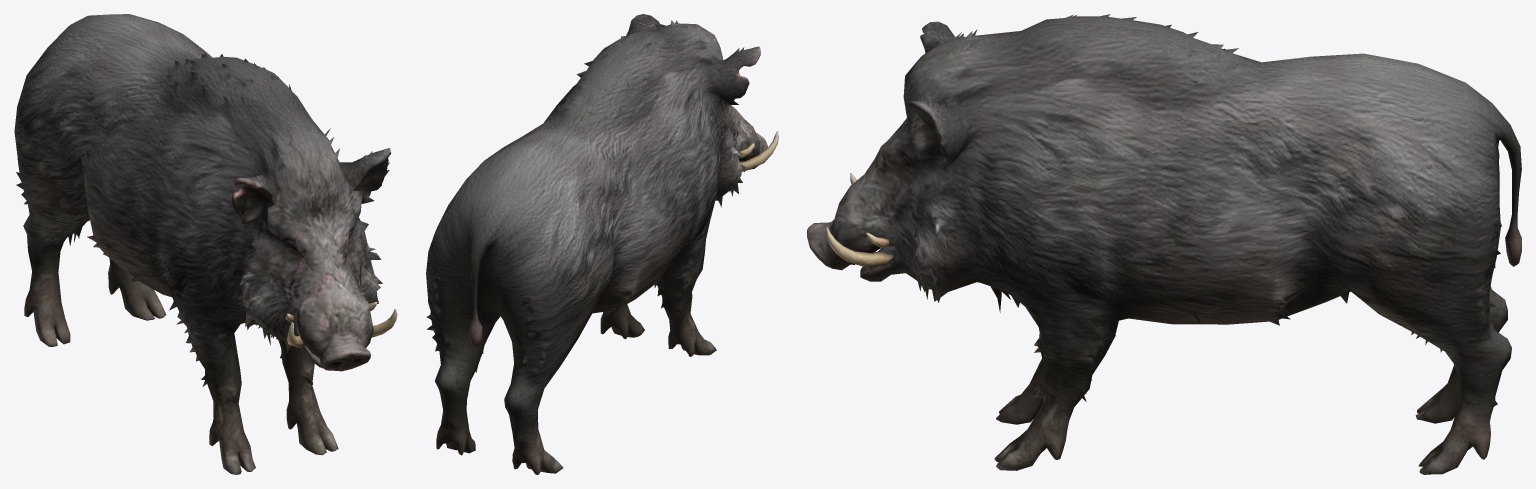
File: javaporco_velho_cicatrizado.glb
3 renders of one model, left to right at view 1: azimuth 30°, elevation 25°; view 2: azimuth 150°, elevation 25°; view 3: azimuth 270°, elevation 25°, orthographic. The views are drawn at different scales.
Parts seen in each view (by area): view 1: Javaporco velho cicatrizado; view 2: Javaporco velho cicatrizado; view 3: Javaporco velho cicatrizado.
Boxes of the visible parts, x1,y1,x2,y2 form: Javaporco velho cicatrizado: [14, 14, 397, 474]; Javaporco velho cicatrizado: [426, 14, 778, 474]; Javaporco velho cicatrizado: [807, 14, 1521, 474].
Bounding box in the file's own units: 0.3418 × 0.6582 × 0.998.
Materials: 1 (1 with a texture image).
